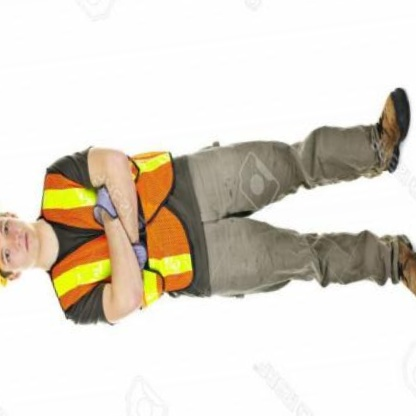vest: (27, 127, 203, 348)
yellow: (0, 186, 12, 299)
